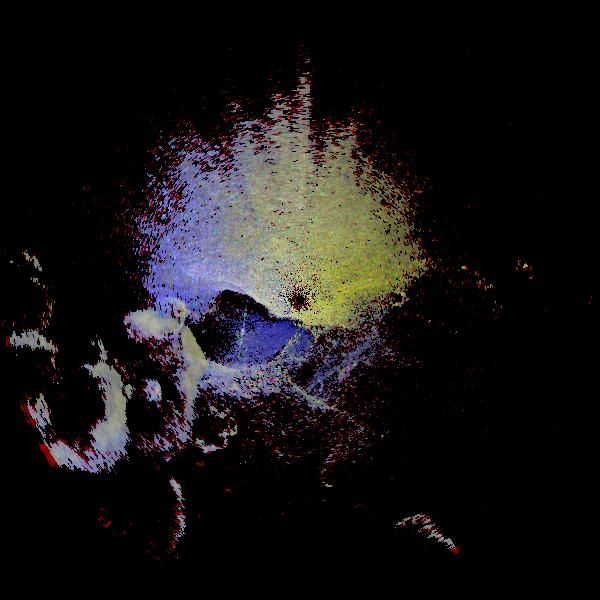roost: (45, 264, 267, 486)
